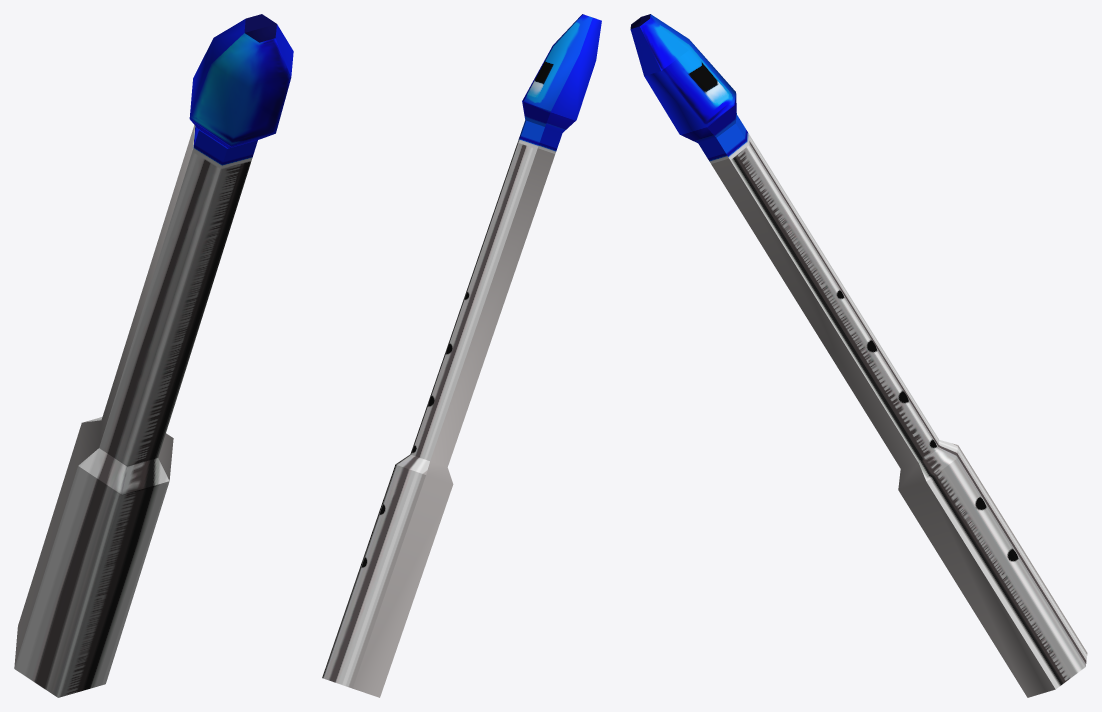
Rendered from Flauta1_000004.obj.
3 renders of one model, left to right at view 1: azimuth 30°, elevation 25°; view 2: azimuth 150°, elevation 25°; view 3: azimuth 270°, elevation 25°, orthographic. The views are drawn at different scales.
Parts seen in each view (by area): view 1: pCylinder3; view 2: pCylinder3; view 3: pCylinder3.
Boxes of the visible parts, x1=… form: pCylinder3: x1=14, y1=14, x2=293, y2=697; pCylinder3: x1=322, y1=14, x2=601, y2=697; pCylinder3: x1=630, y1=14, x2=1087, y2=697.
Size of the model in its own units: 0.9494 by 4.94 by 3.17.
